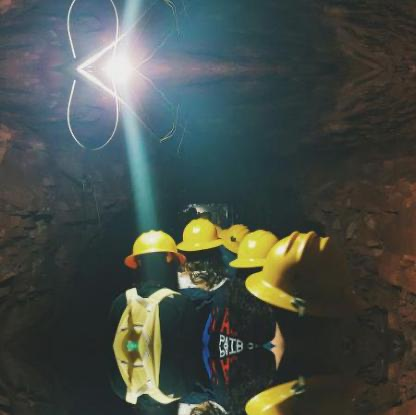Safety Helmet: (246, 227, 362, 366), (116, 223, 185, 294), (228, 225, 283, 278), (174, 216, 224, 264), (217, 220, 250, 258)
